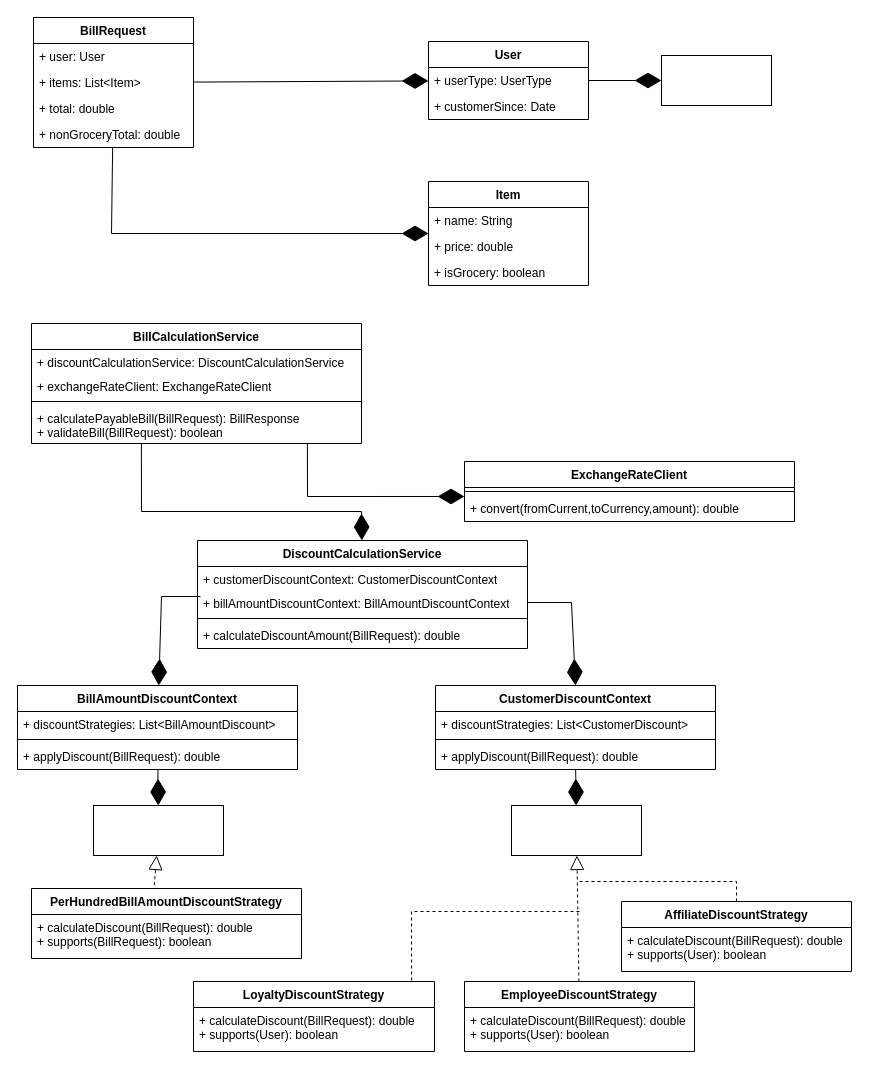
The diagram is 869 pixels wide and 1072 high, and some of its shapes have lost their labels. The centre of each missing label's shape, as x and y in pixels:
"«Enum» UserType" goes at (716,80).
"«interface» BillAmount Discount" goes at (158,830).
"«interface» CustomerDiscount" goes at (576,830).
